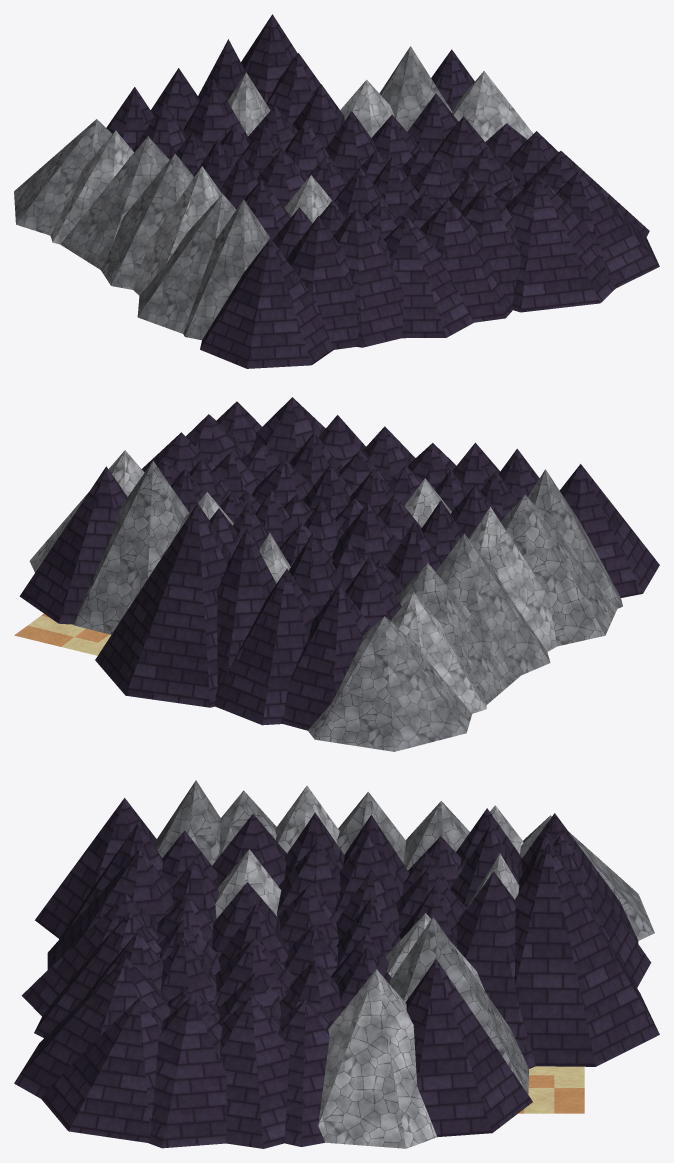
The model's file is chunk_8_23.glb.
3 views of the same model, one above another, from view 1: azimuth 30°, elevation 25°; view 2: azimuth 150°, elevation 25°; view 3: azimuth 270°, elevation 25° (orthographic). The views are drawn at different scales.
Parts seen in each view (by area): view 1: chunk_8_23; view 2: chunk_8_23; view 3: chunk_8_23.
Boxes of the visible parts, x1,y1,x2,y2 form: chunk_8_23: (14,14,659,368); chunk_8_23: (14,397,659,751); chunk_8_23: (14,780,659,1148).
Size of the model in its own units: 21.61 by 6.57 by 21.35.
8 materials, 8 textured.
